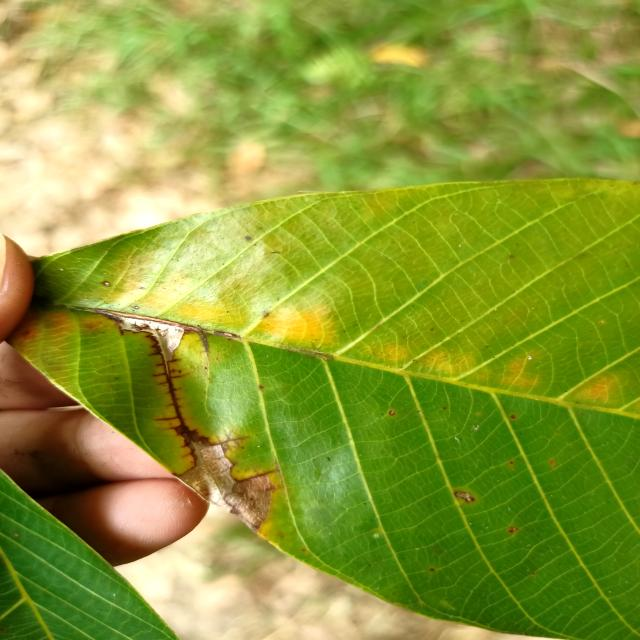Colletotrichum: (388, 410, 396, 416), (103, 281, 111, 286), (134, 306, 139, 309)
Corynespora: (147, 333, 208, 457), (209, 431, 250, 453), (235, 467, 277, 483), (193, 329, 212, 355)
Leaf-Blight: (177, 442, 271, 527), (122, 317, 183, 361)
